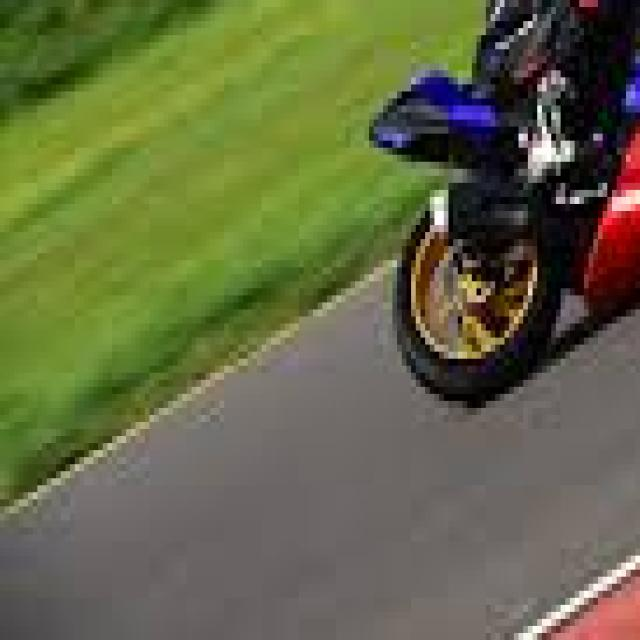bike: (364, 0, 640, 415)
